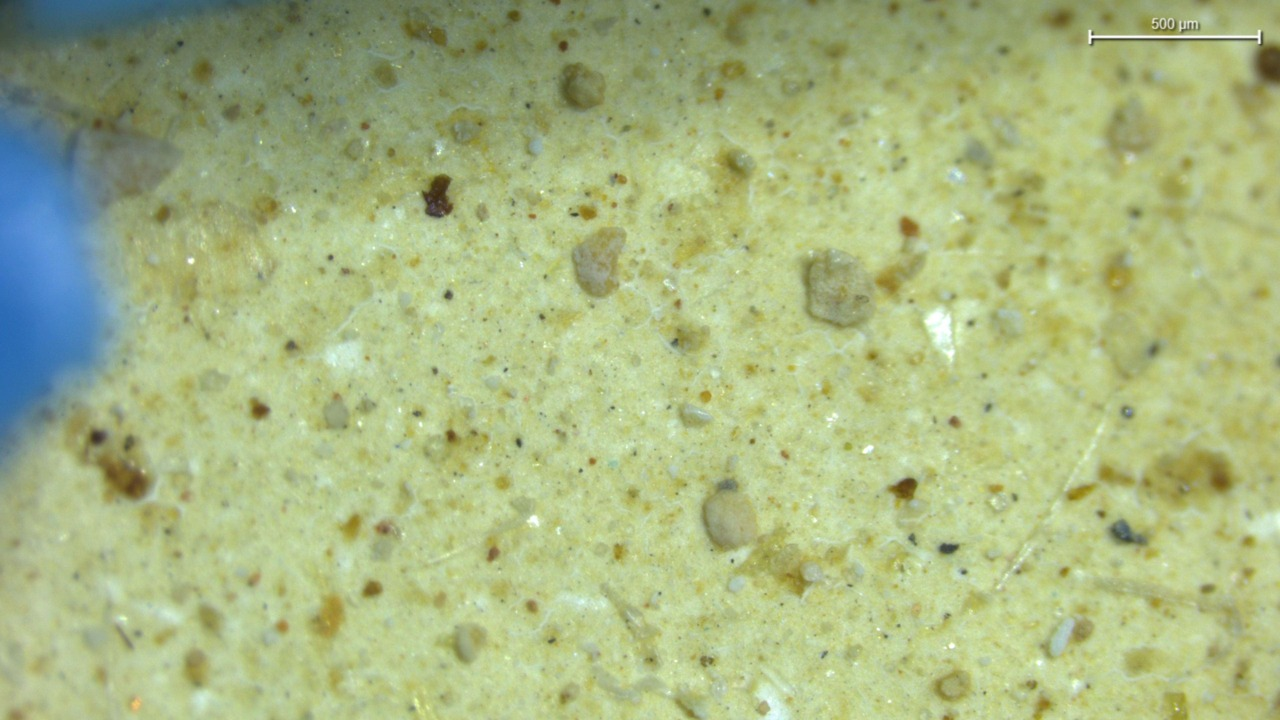microplastic_fragment: (808, 249, 879, 327), (702, 481, 764, 552), (571, 227, 627, 300), (559, 66, 611, 113), (1049, 617, 1077, 658)
